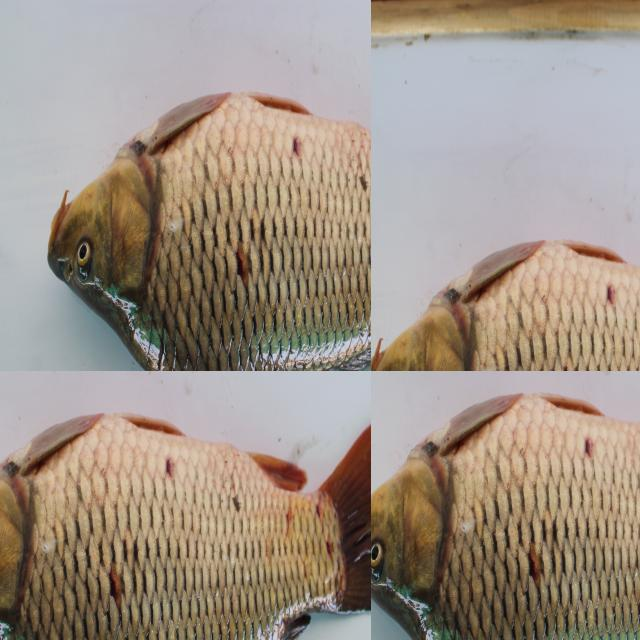fish: (371, 371, 640, 640)
